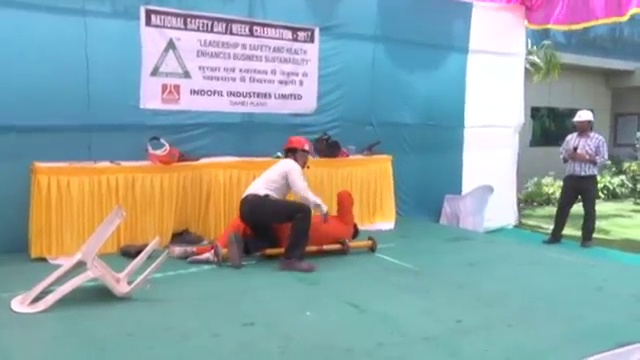helmet: (284, 135, 311, 153), (569, 109, 598, 124)
helmet_on: (283, 135, 311, 169), (567, 108, 599, 137)
person: (228, 135, 328, 275), (173, 187, 360, 259), (544, 107, 608, 248)
